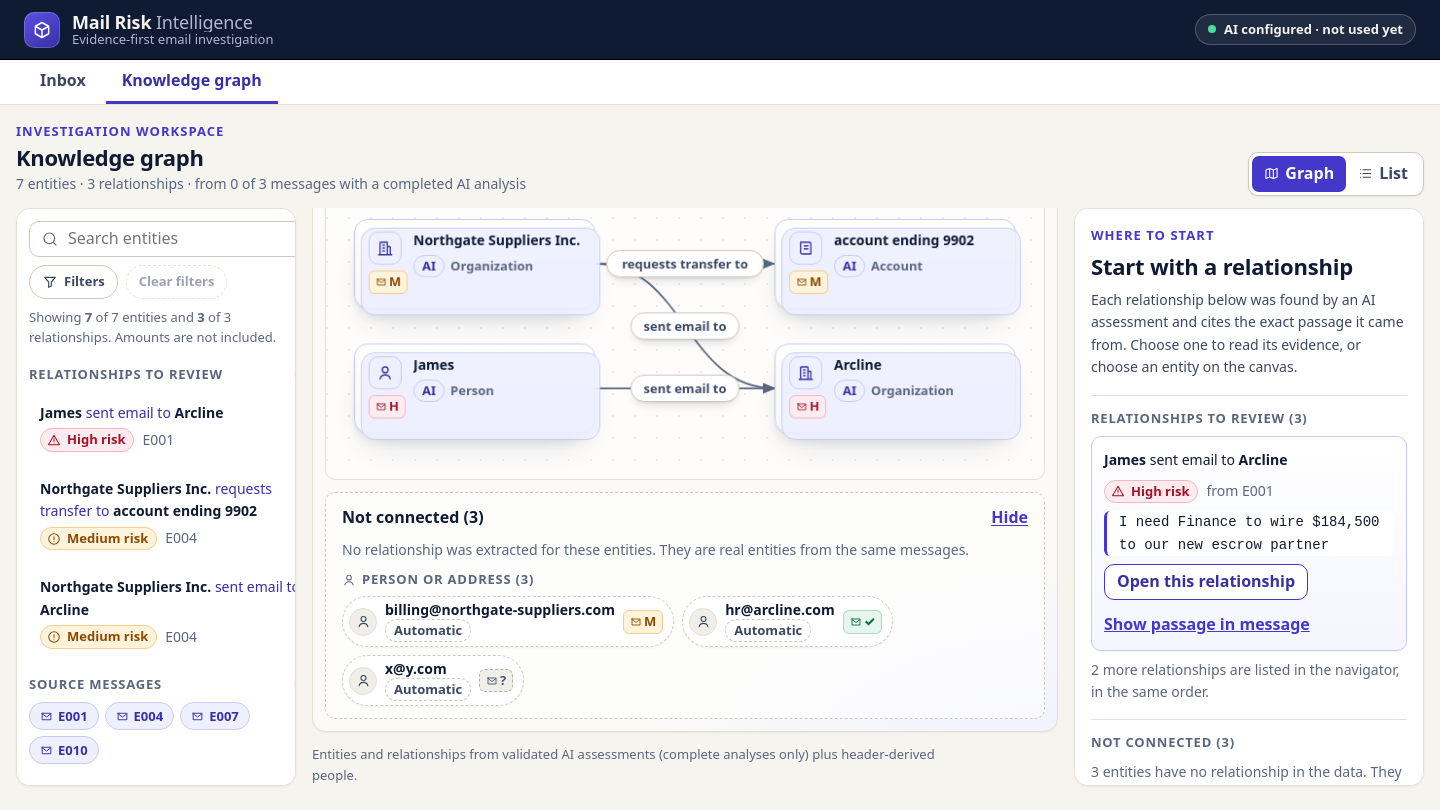
Test: selection and inspector › distinguishes 'No risk found' from 'Not assessed' in the inspector
The image size is (1440, 810).
(page scrolled)
Expected: the text "7 entities · 3 relationships" is shown, x1=16 y1=174 x2=526 y2=193
Click the button with aria-label "Person or address x@y.com": click(433, 681) x1=342 y1=655 x2=524 y2=706
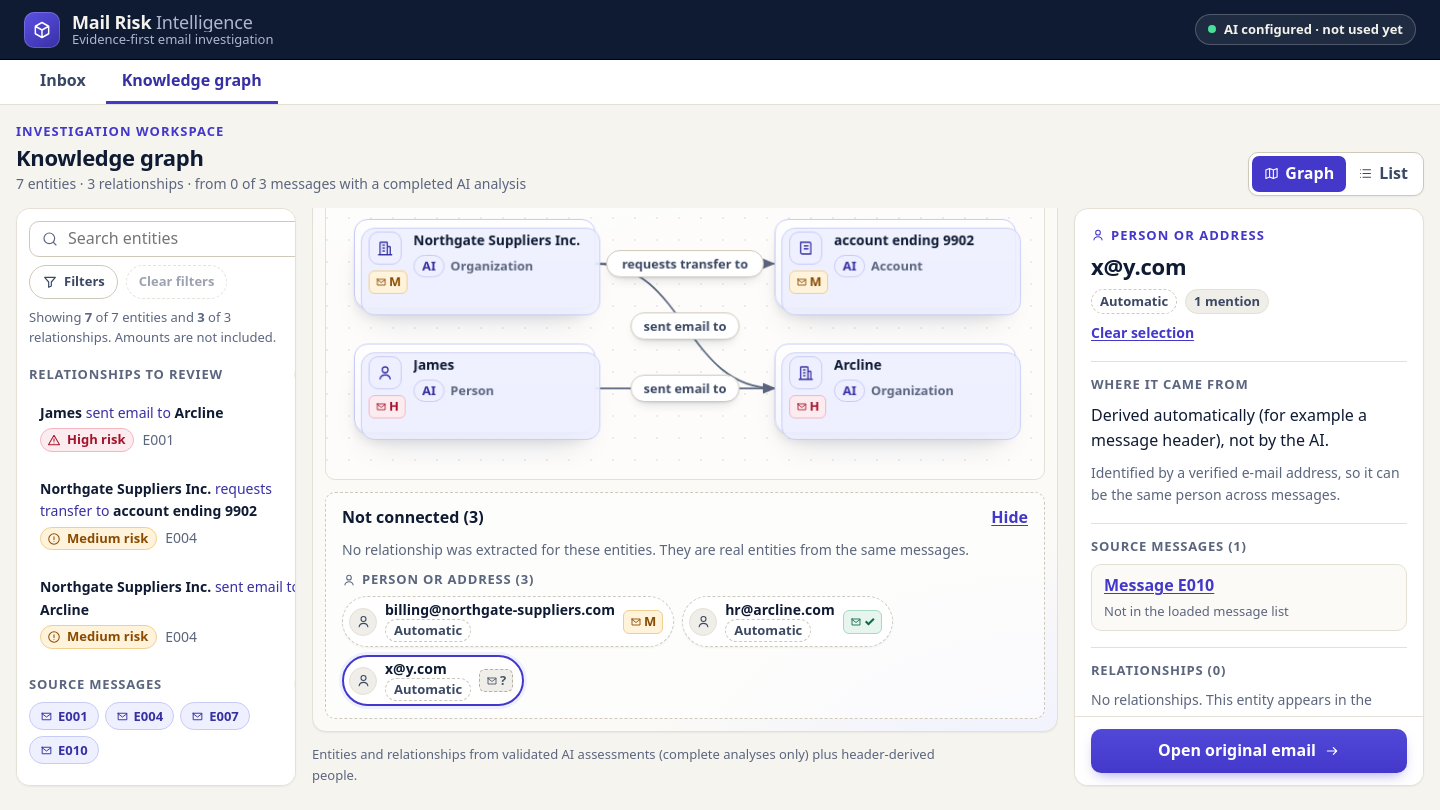
Click the button with aria-label "Person or address hr@arcline.com": click(788, 622) x1=682 y1=596 x2=893 y2=647
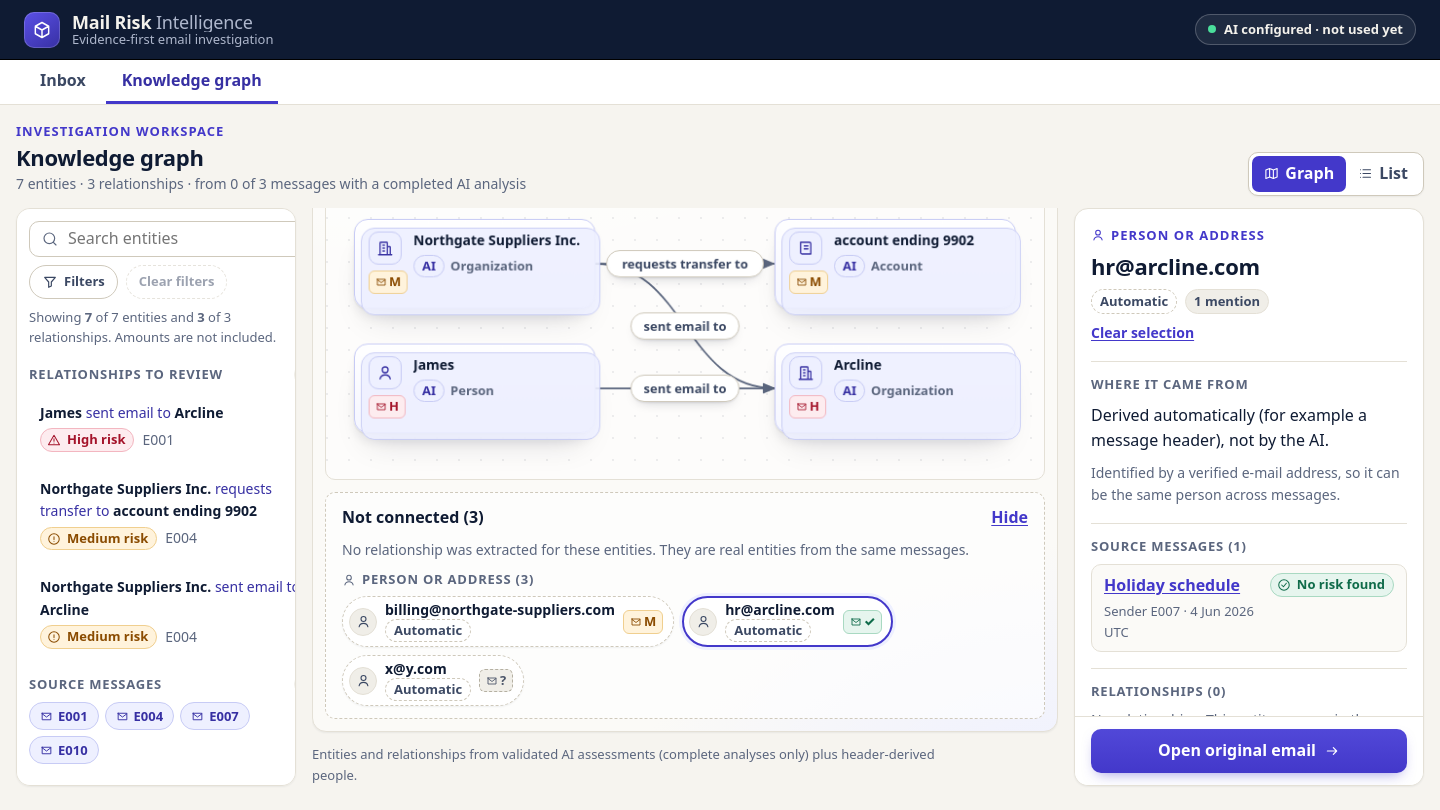
Now the element showing "No risk found" is shown, box x1=1270 y1=573 x2=1394 y2=597
